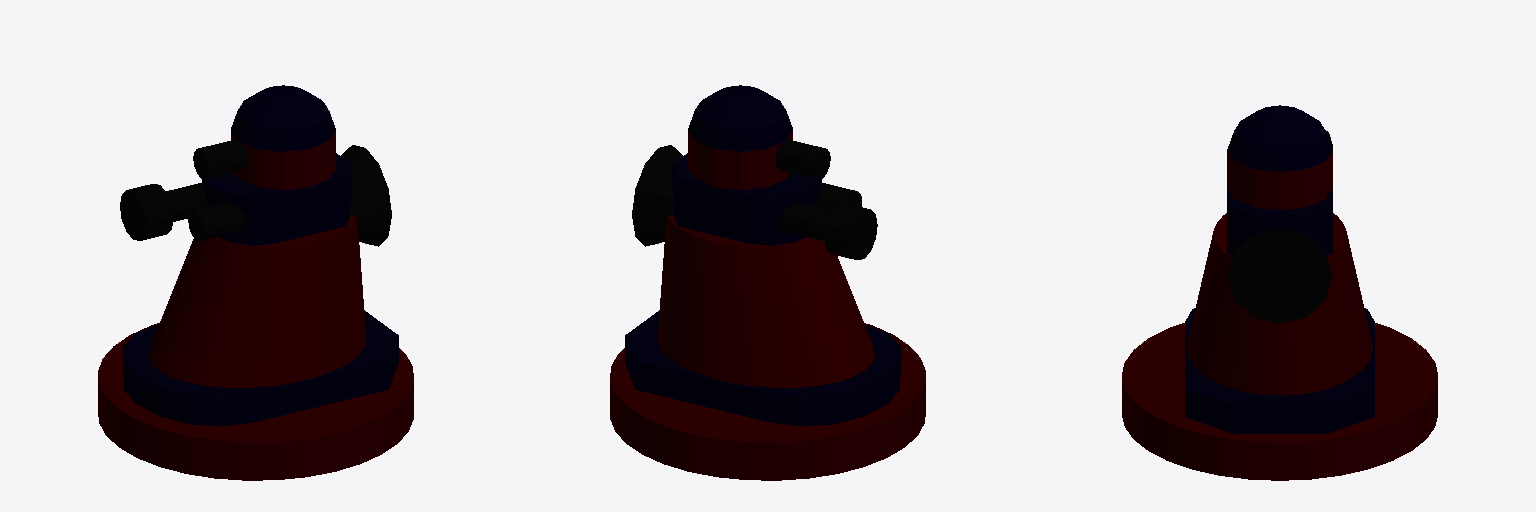
File: turret.obj
3 renders of one model, left to right at view 1: azimuth 30°, elevation 25°; view 2: azimuth 150°, elevation 25°; view 3: azimuth 270°, elevation 25°, orthographic.
Visible parts, largest first — view 1: WT18mm-dalek-lowpoly; view 2: WT18mm-dalek-lowpoly; view 3: WT18mm-dalek-lowpoly.
Boxes of the visible parts, x1,y1,x2,y2 form: WT18mm-dalek-lowpoly: [98, 85, 413, 480]; WT18mm-dalek-lowpoly: [610, 85, 925, 480]; WT18mm-dalek-lowpoly: [1122, 105, 1437, 480].
Size of the model in its own units: 1.5 by 1.65 by 1.5.